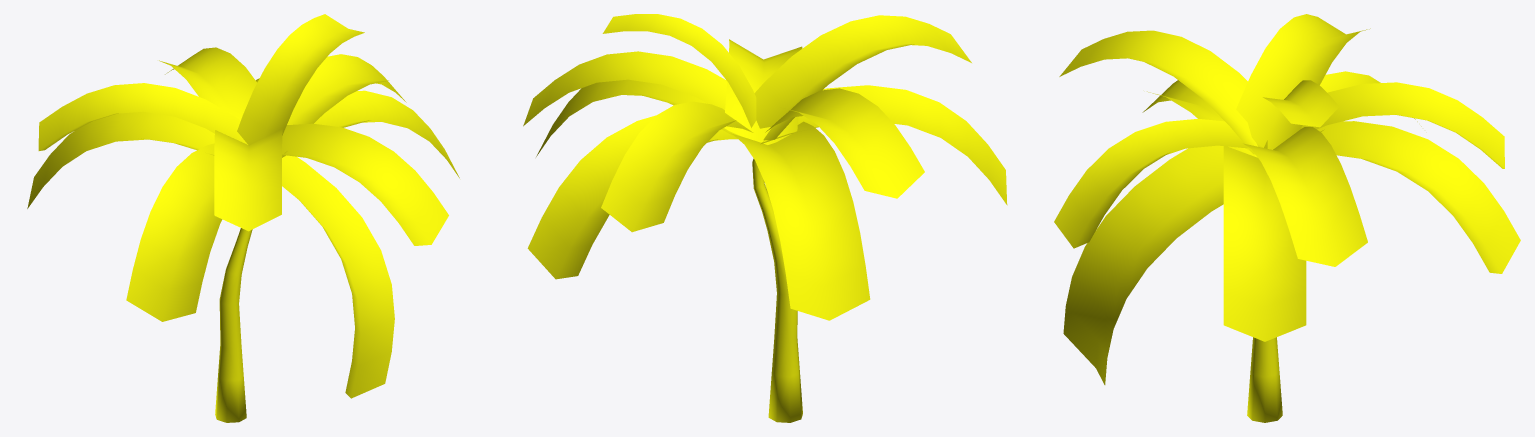
The picture shows the model from 3 angles, left to right: view 1: azimuth 30°, elevation 25°; view 2: azimuth 150°, elevation 25°; view 3: azimuth 270°, elevation 25°; orthographic projection. The views are drawn at different scales.
Parts seen in each view (by area): view 1: Cylinder.005; view 2: Cylinder.005; view 3: Cylinder.005.
Boxes of the visible parts, <box> form: Cylinder.005: <box>27,14,459,422</box>; Cylinder.005: <box>523,14,1007,422</box>; Cylinder.005: <box>1054,14,1520,422</box>.
Bounding box in the file's own units: 43.51 × 37.22 × 42.21.
2 materials, 2 textured.
